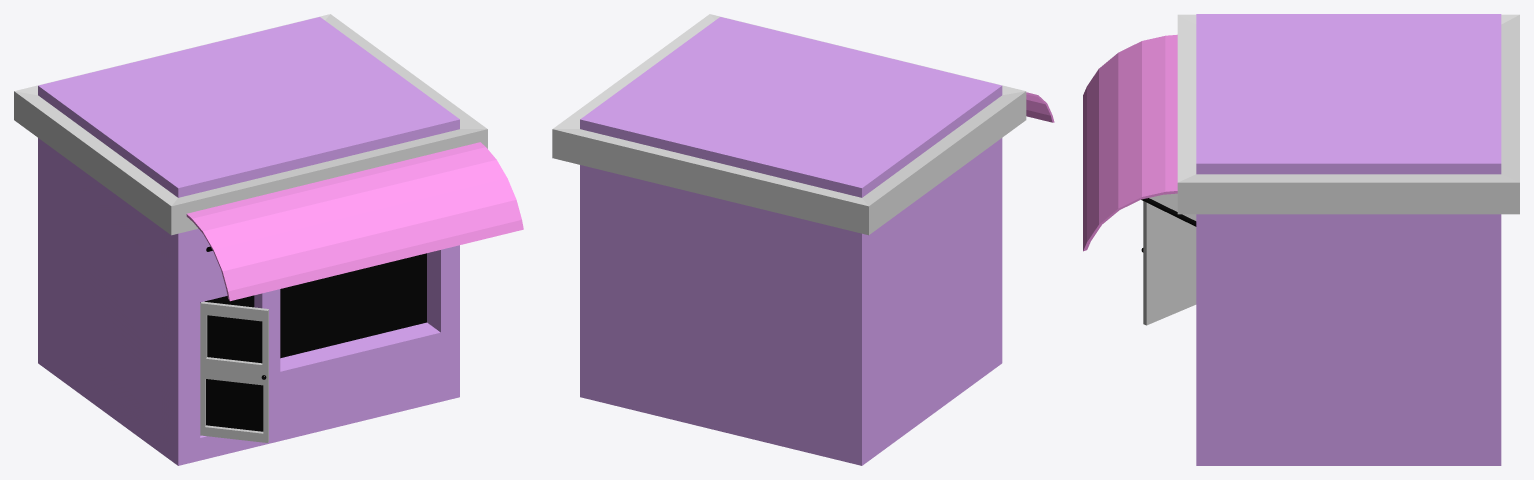
File: Store_pink.fbx
3 renders of one model, left to right at view 1: azimuth 30°, elevation 25°; view 2: azimuth 150°, elevation 25°; view 3: azimuth 270°, elevation 25°, orthographic. The views are drawn at different scales.
Parts seen in each view (by area): view 1: Cube.005; view 2: Cube.005; view 3: Cube.005.
Part boxes in pixels (x1=…): Cube.005: x1=14, y1=14, x2=523, y2=465; Cube.005: x1=552, y1=14, x2=1054, y2=465; Cube.005: x1=1083, y1=14, x2=1519, y2=465.
Bounding box in the file's own units: 261 × 219 × 286.
